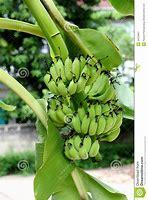banana: (43, 56, 128, 153), (35, 54, 120, 104), (58, 102, 129, 154)
